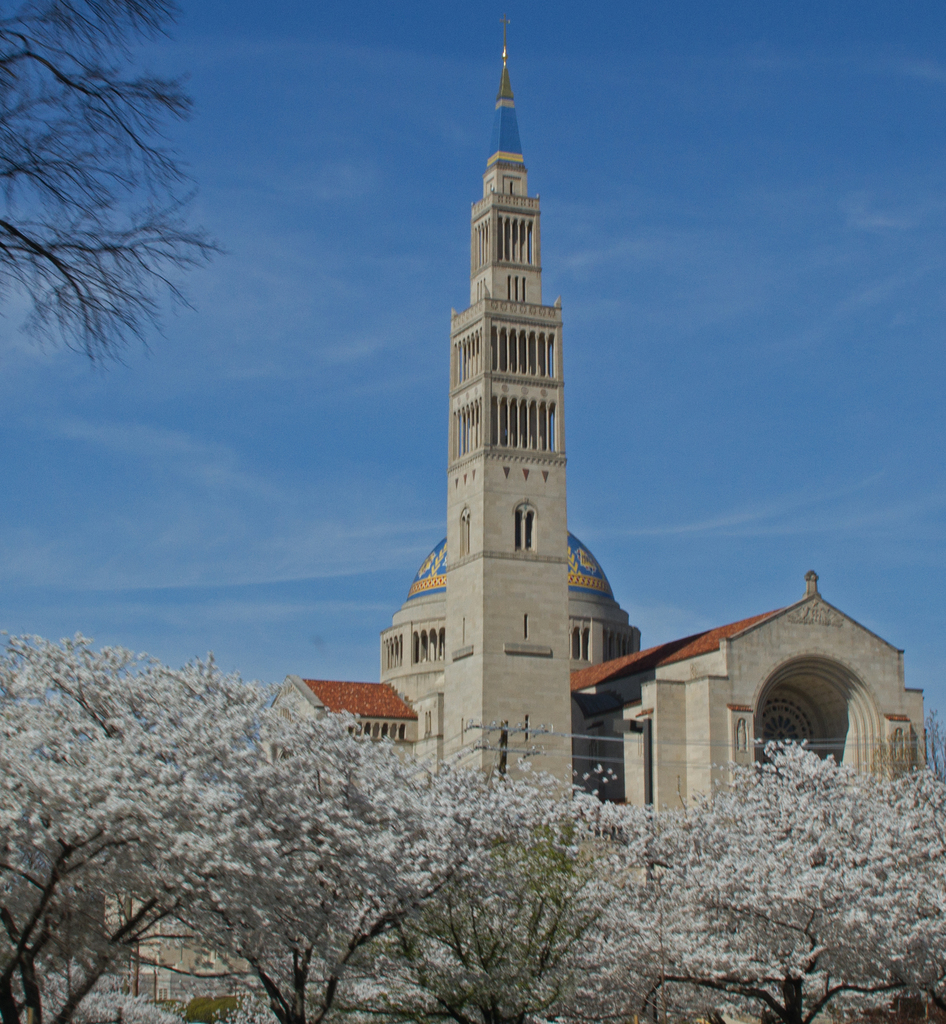Tree: (81, 695, 535, 1023), (534, 723, 945, 1023), (0, 629, 88, 1023)
